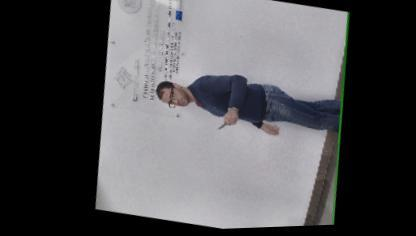knife: (207, 115, 231, 135)
